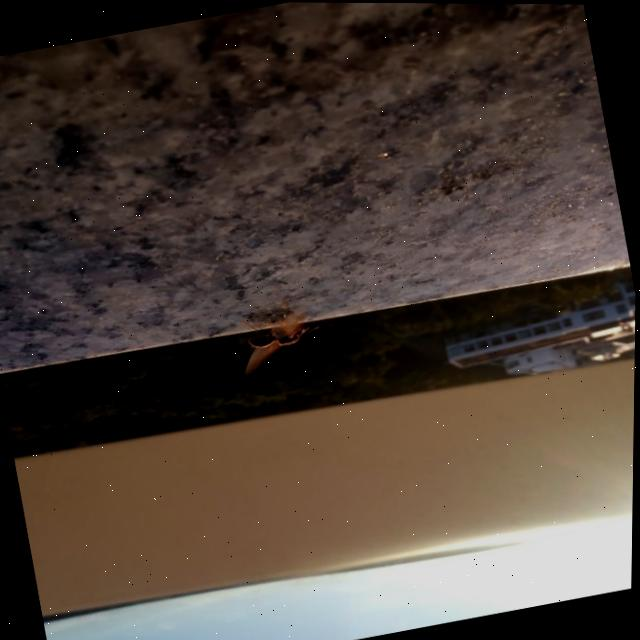Alive-Female-Alate: (236, 305, 327, 378)
